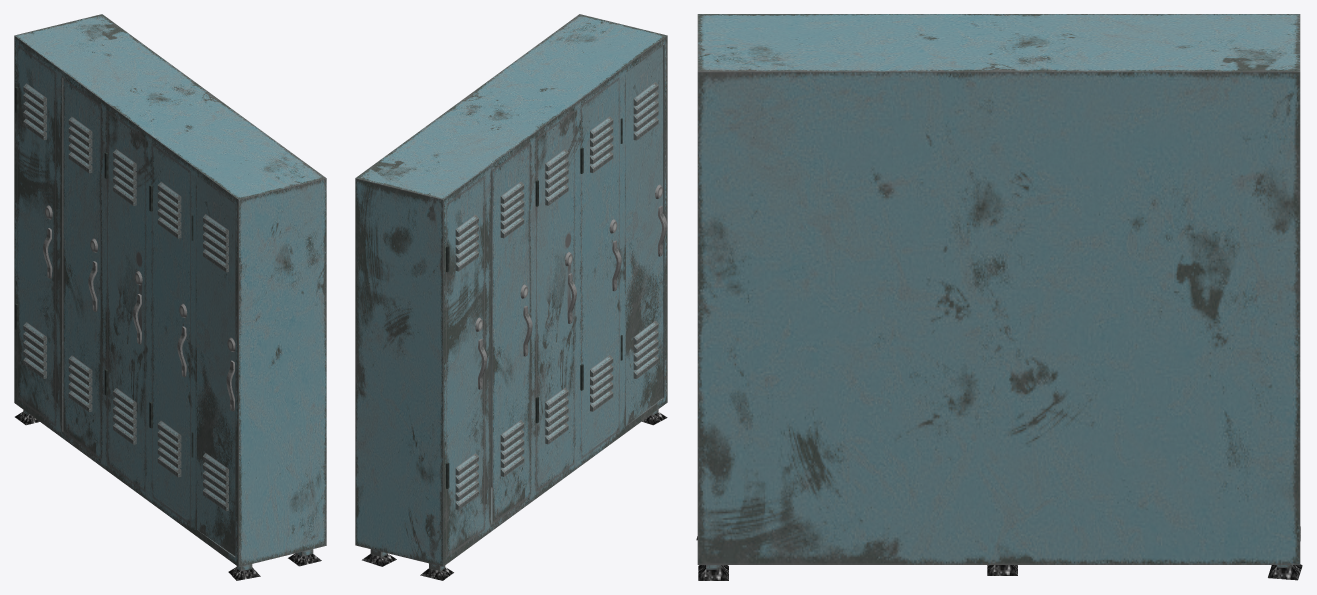
The model's file is wardrobe.fbx.
3 renders of one model, left to right at view 1: azimuth 30°, elevation 25°; view 2: azimuth 150°, elevation 25°; view 3: azimuth 270°, elevation 25°, orthographic. The views are drawn at different scales.
Parts seen in each view (by area): view 1: locker_merged, locker_merged.001; view 2: locker_merged, locker_merged.001; view 3: locker_merged.
Part boxes in pixels (x1,y1,x2,y2): locker_merged: (14, 14, 326, 580); locker_merged.001: (195, 175, 235, 555); locker_merged: (355, 14, 667, 580); locker_merged.001: (626, 46, 667, 425); locker_merged: (696, 14, 1302, 580).
Bounding box in the file's own units: 59.28 × 229 × 245.
